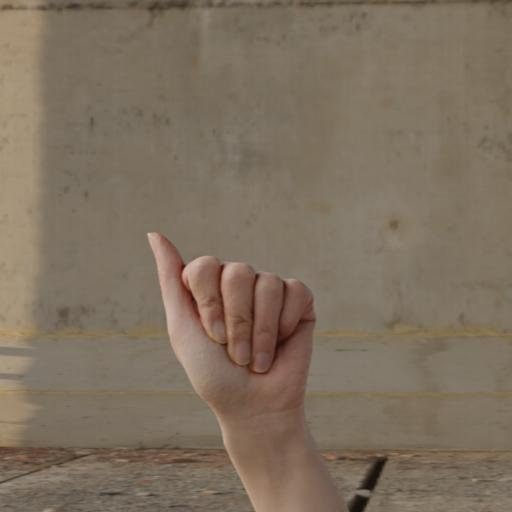A: (139, 224, 341, 439)
